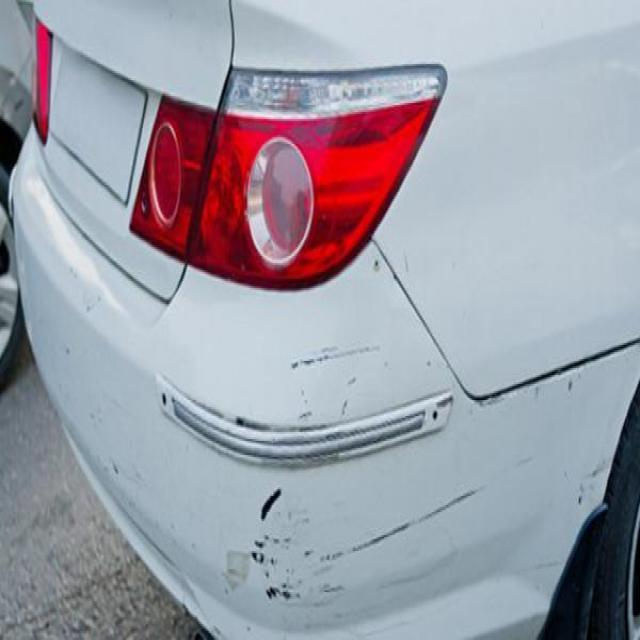scratch: (344, 478, 482, 566), (285, 330, 390, 376)
